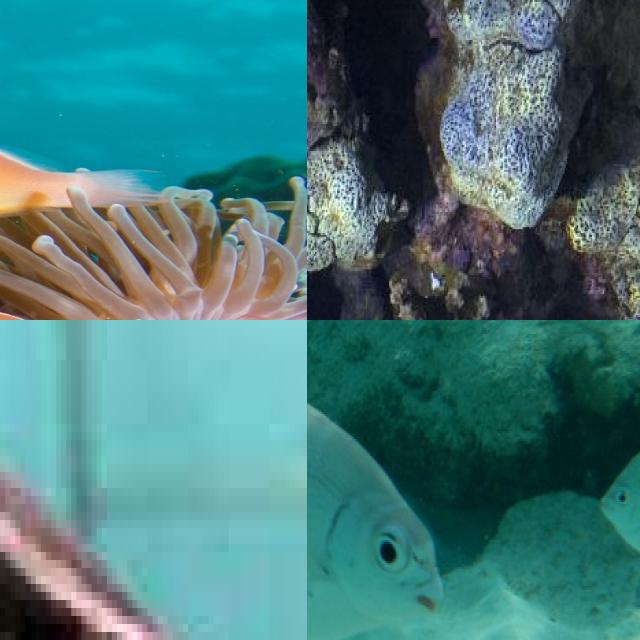fish: (0, 0, 307, 320), (0, 320, 295, 640)
